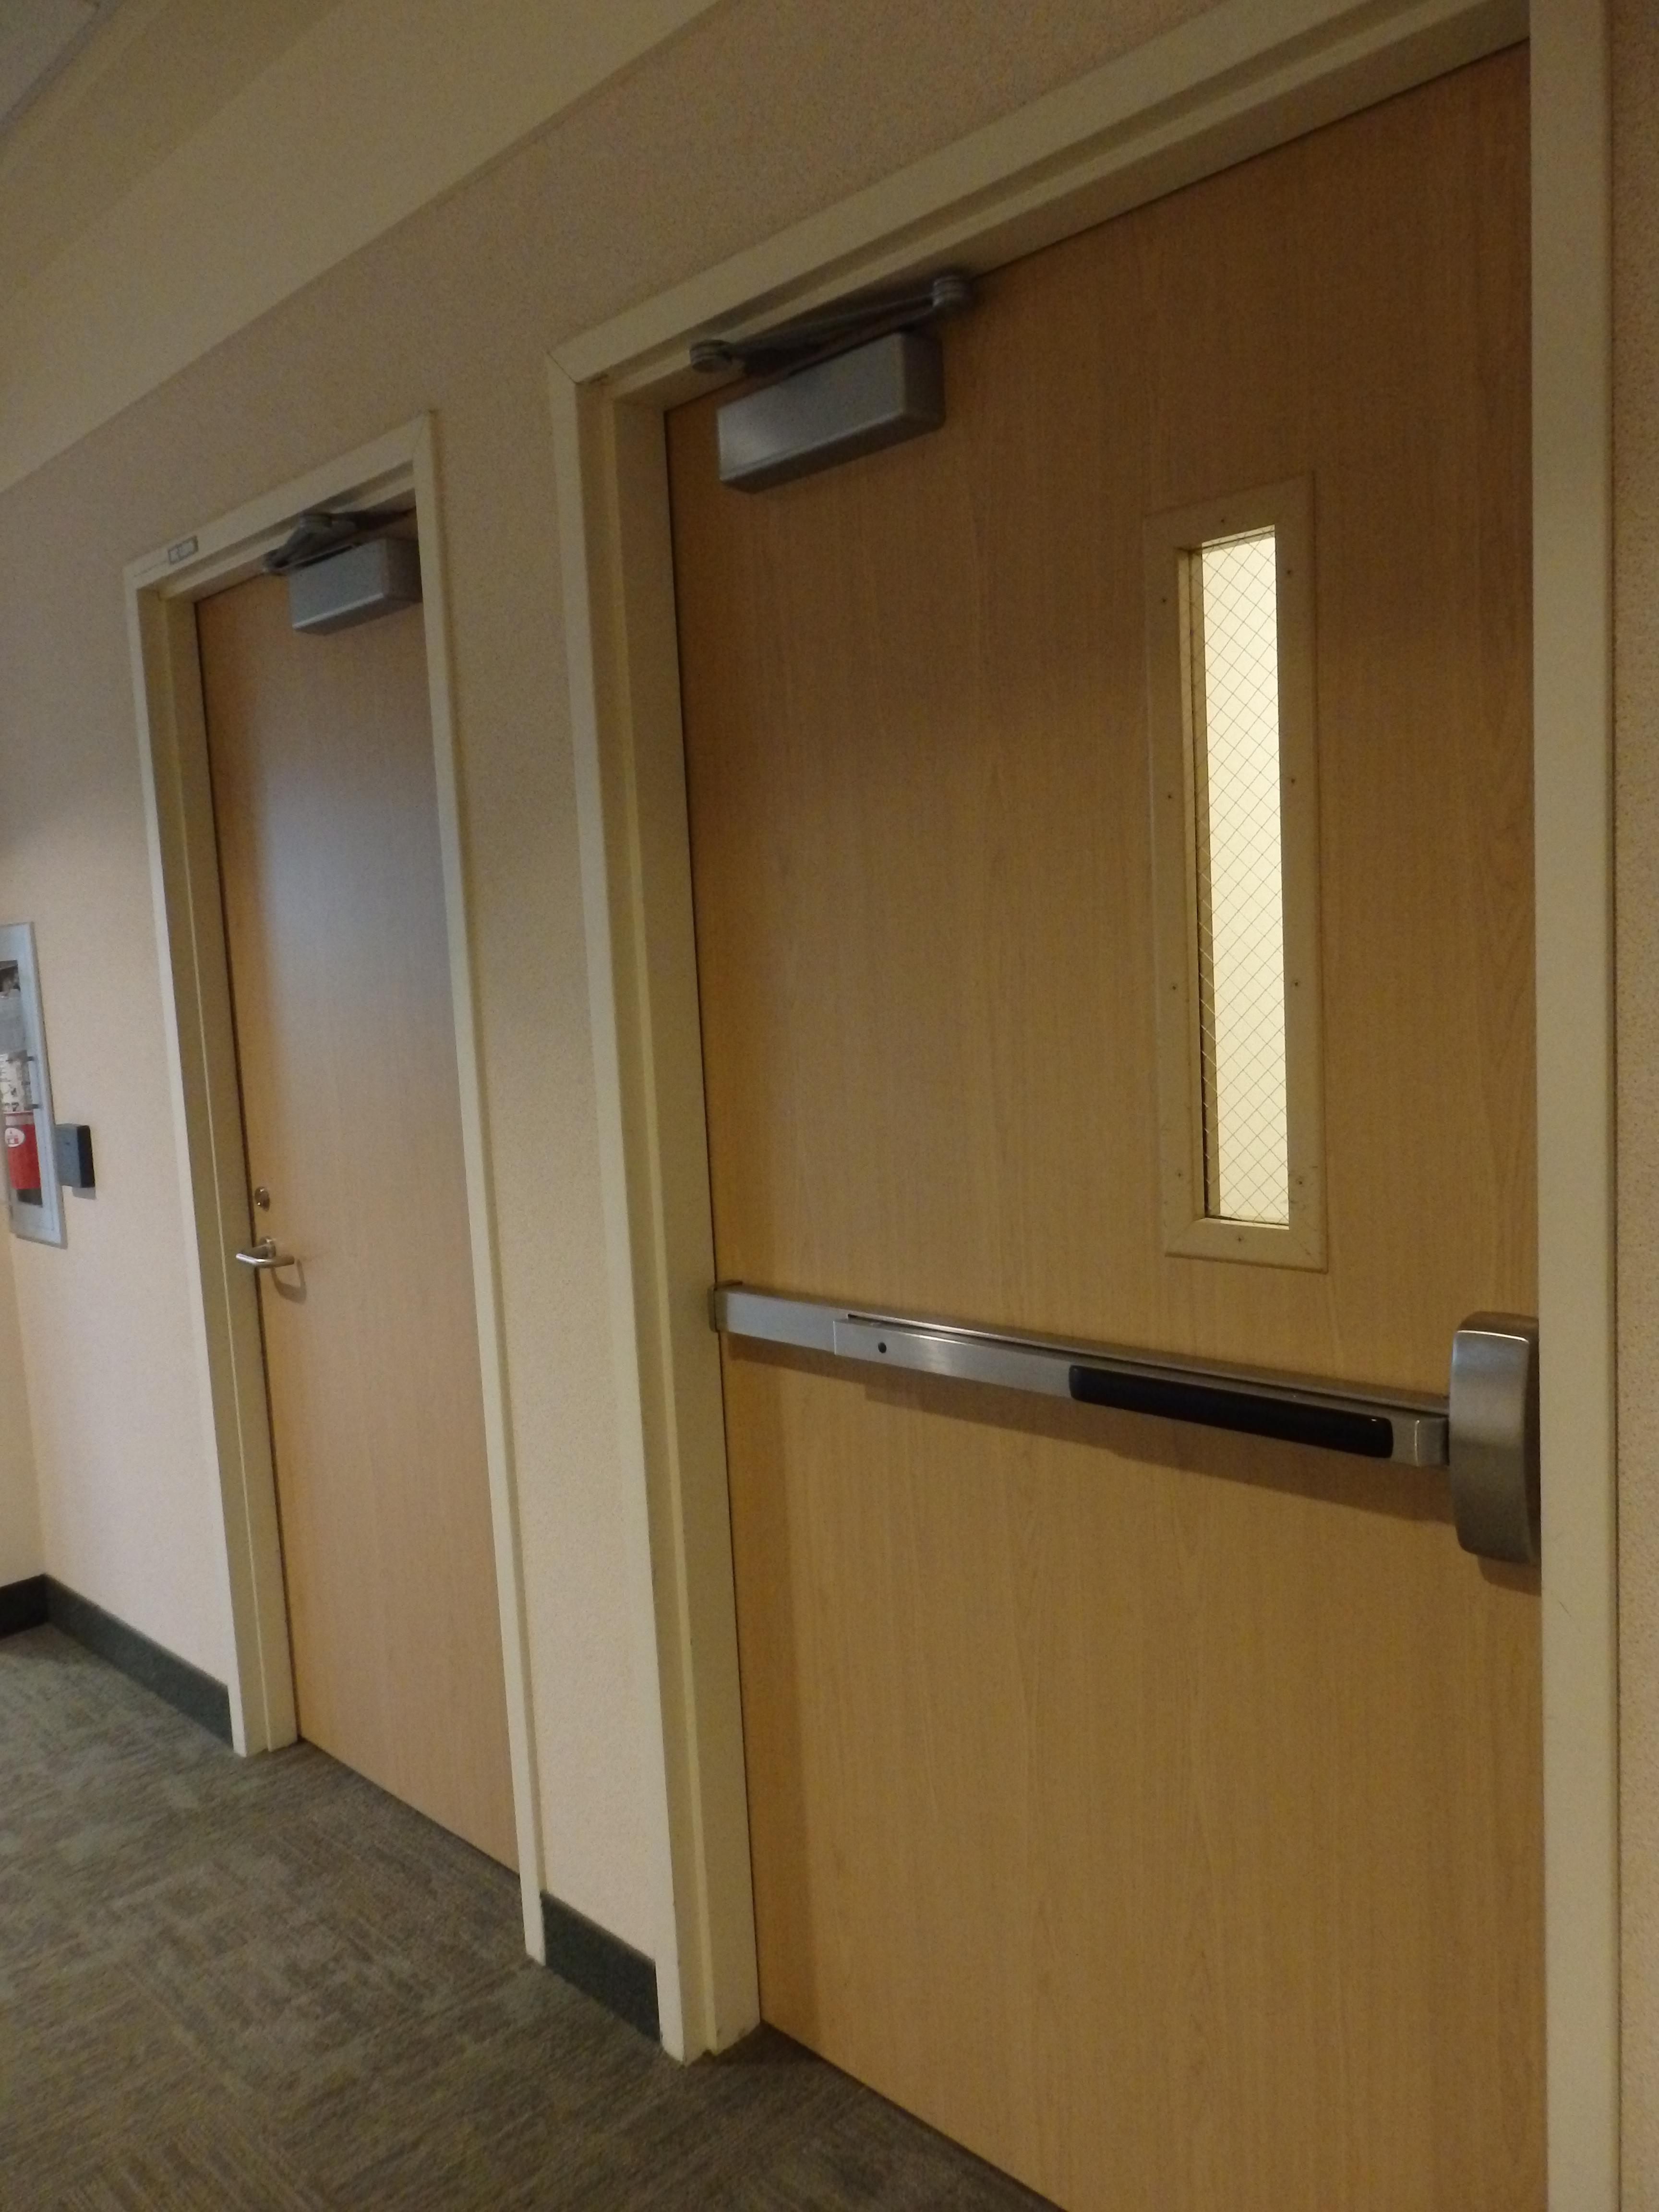door: (666, 17, 1534, 2196), (61, 488, 551, 1923)
